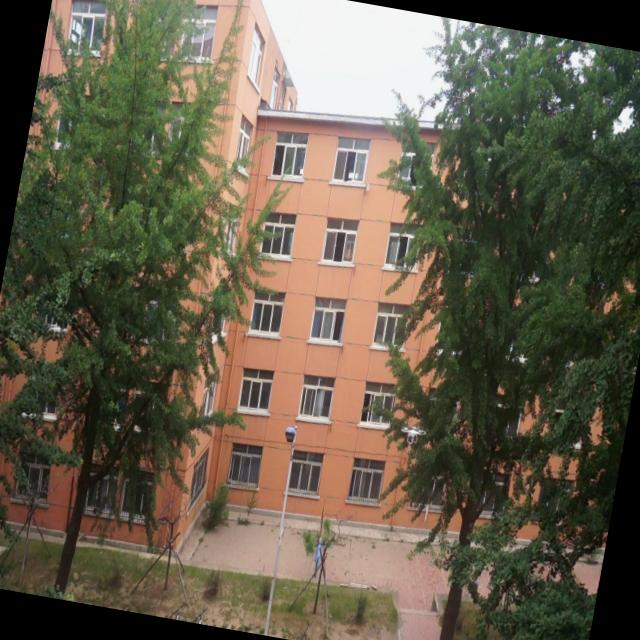drone: (397, 418, 427, 448)
